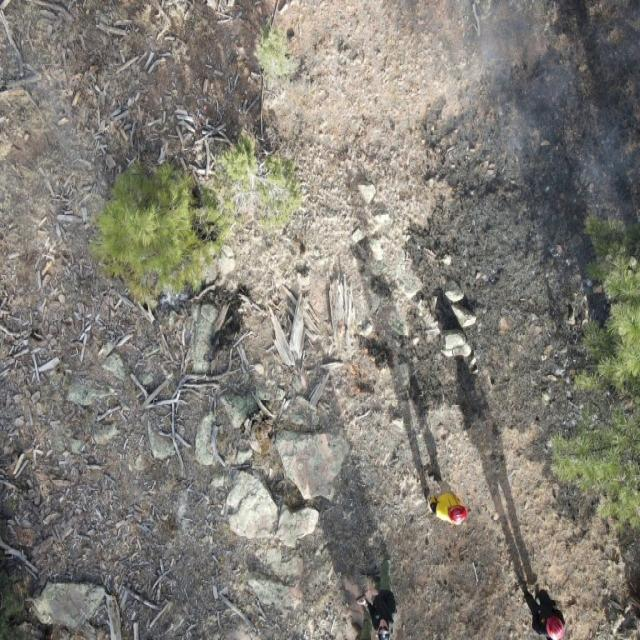fire: (346, 364, 366, 394), (359, 346, 379, 366), (335, 321, 348, 334)
smoke: (452, 0, 640, 215)
